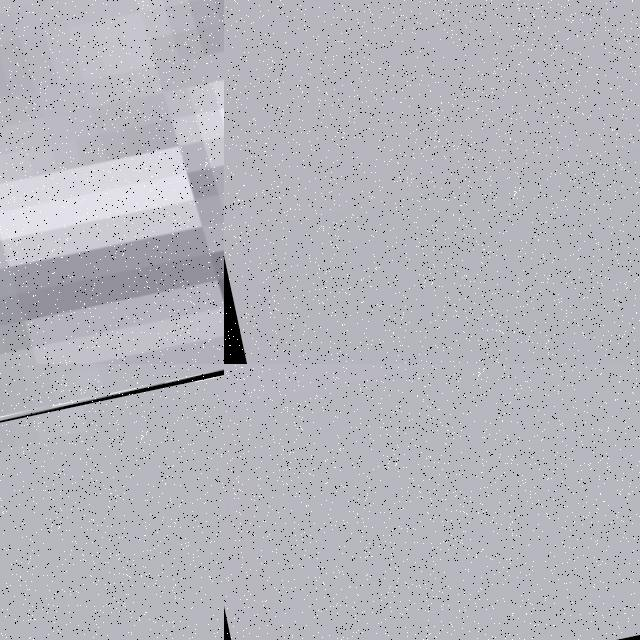drone: (0, 0, 224, 364), (0, 364, 224, 456)
